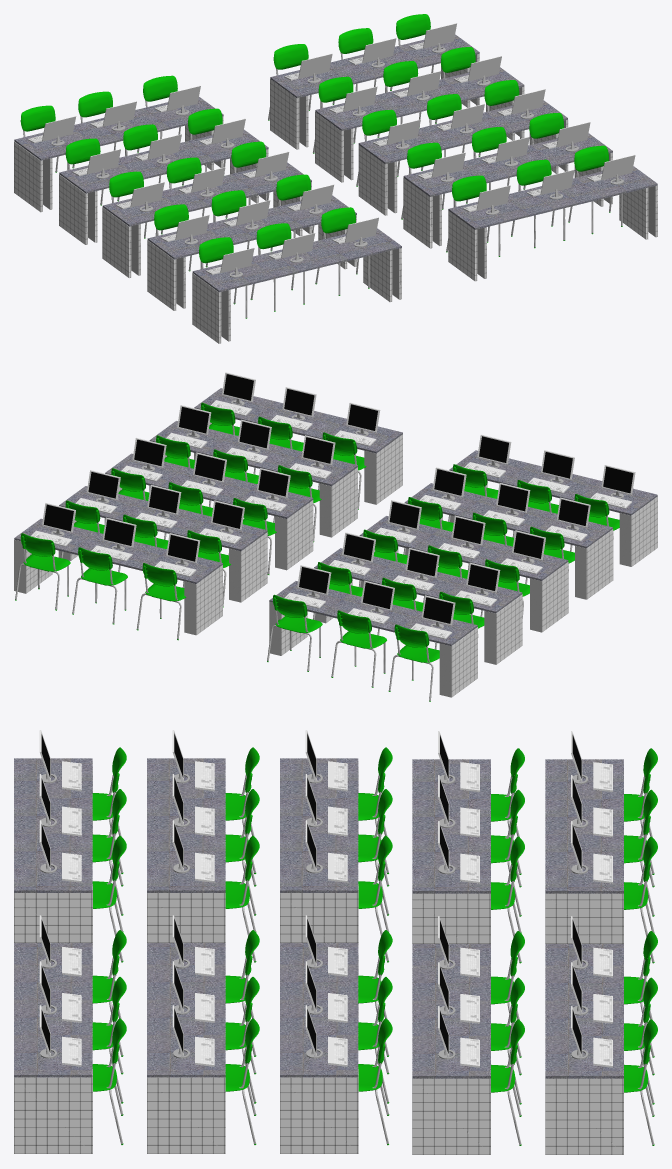
File: Sillas y Pc salon Informatica.fbx
3 renders of one model, top to bottom at view 1: azimuth 30°, elevation 25°; view 2: azimuth 150°, elevation 25°; view 3: azimuth 270°, elevation 25°, orthographic. The views are drawn at different scales.
Visible parts, largest first — view 1: Mesa Granito, Monitores, Teclado, Silla .030, Silla .029, Silla .007, Silla .006, Silla .028, Silla .005, Silla .027, Silla .022, Silla .016 (+21 smaller); view 2: Mesa Granito, Monitores, Teclado, Silla .012, Silla .017, Silla .018, Silla .015, Silla .001, Silla .016, Silla .022, Silla .028, Silla .027 (+21 smaller); view 3: Mesa Granito, Teclado, Monitores, Silla .025, Silla .024, Silla .019, Silla .018, Silla .030, Silla .008, Silla .011, Silla .015, Silla .014 (+21 smaller).
Boxes of the visible parts, left/top/right/bottom form: Mesa Granito: left=14, top=34, right=657, bottom=343; Monitores: left=42, top=23, right=635, bottom=277; Teclado: left=27, top=42, right=602, bottom=274; Silla .030: left=568, top=145, right=622, bottom=234; Silla .029: left=511, top=159, right=565, bottom=248; Silla .007: left=315, top=207, right=369, bottom=295; Silla .006: left=250, top=223, right=304, bottom=311; Silla .028: left=446, top=175, right=500, bottom=256; Silla .005: left=199, top=237, right=247, bottom=318; Silla .027: left=401, top=142, right=454, bottom=219; Silla .022: left=356, top=109, right=409, bottom=186; Silla .016: left=268, top=44, right=321, bottom=120; Mesa Granito: left=14, top=388, right=657, bottom=697; Monitores: left=42, top=372, right=635, bottom=628; Teclado: left=31, top=400, right=631, bottom=639; Silla .012: left=331, top=610, right=386, bottom=687; Silla .017: left=72, top=547, right=127, bottom=624; Silla .018: left=15, top=533, right=70, bottom=610; Silla .015: left=267, top=594, right=322, bottom=671; Silla .001: left=388, top=624, right=439, bottom=701; Silla .016: left=136, top=563, right=186, bottom=640; Silla .022: left=228, top=498, right=276, bottom=574; Silla .028: left=318, top=432, right=366, bottom=509; Silla .027: left=273, top=465, right=321, bottom=542; Mesa Granito: left=14, top=758, right=623, bottom=1154; Teclado: left=62, top=761, right=612, bottom=1067; Monitores: left=39, top=730, right=588, bottom=1059; Silla .025: left=225, top=1018, right=259, bottom=1144; Silla .024: left=358, top=1018, right=392, bottom=1145; Silla .019: left=491, top=1019, right=524, bottom=1145; Silla .018: left=624, top=1019, right=657, bottom=1145; Silla .030: left=92, top=1018, right=126, bottom=1144; Silla .008: left=225, top=835, right=259, bottom=962; Silla .011: left=358, top=835, right=392, bottom=962; Silla .015: left=624, top=836, right=657, bottom=963; Silla .014: left=491, top=836, right=524, bottom=963.
Bounding box in the file's own units: 865 × 148 × 740.
Materials: 12 (3 with a texture image).
